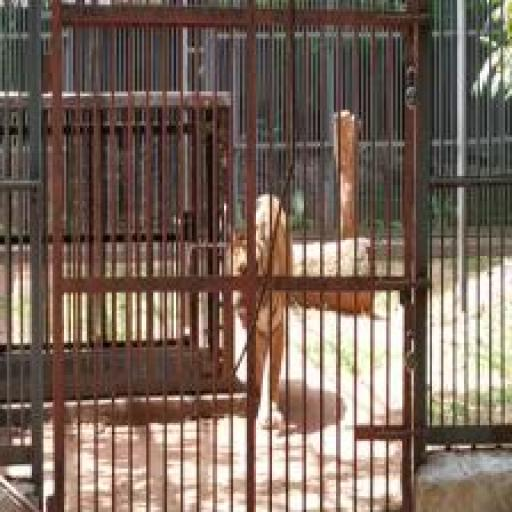Tiger: (217, 194, 325, 429), (324, 471, 351, 496)
